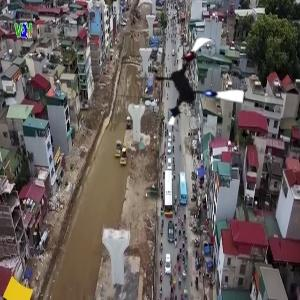drone: (148, 35, 251, 138)
